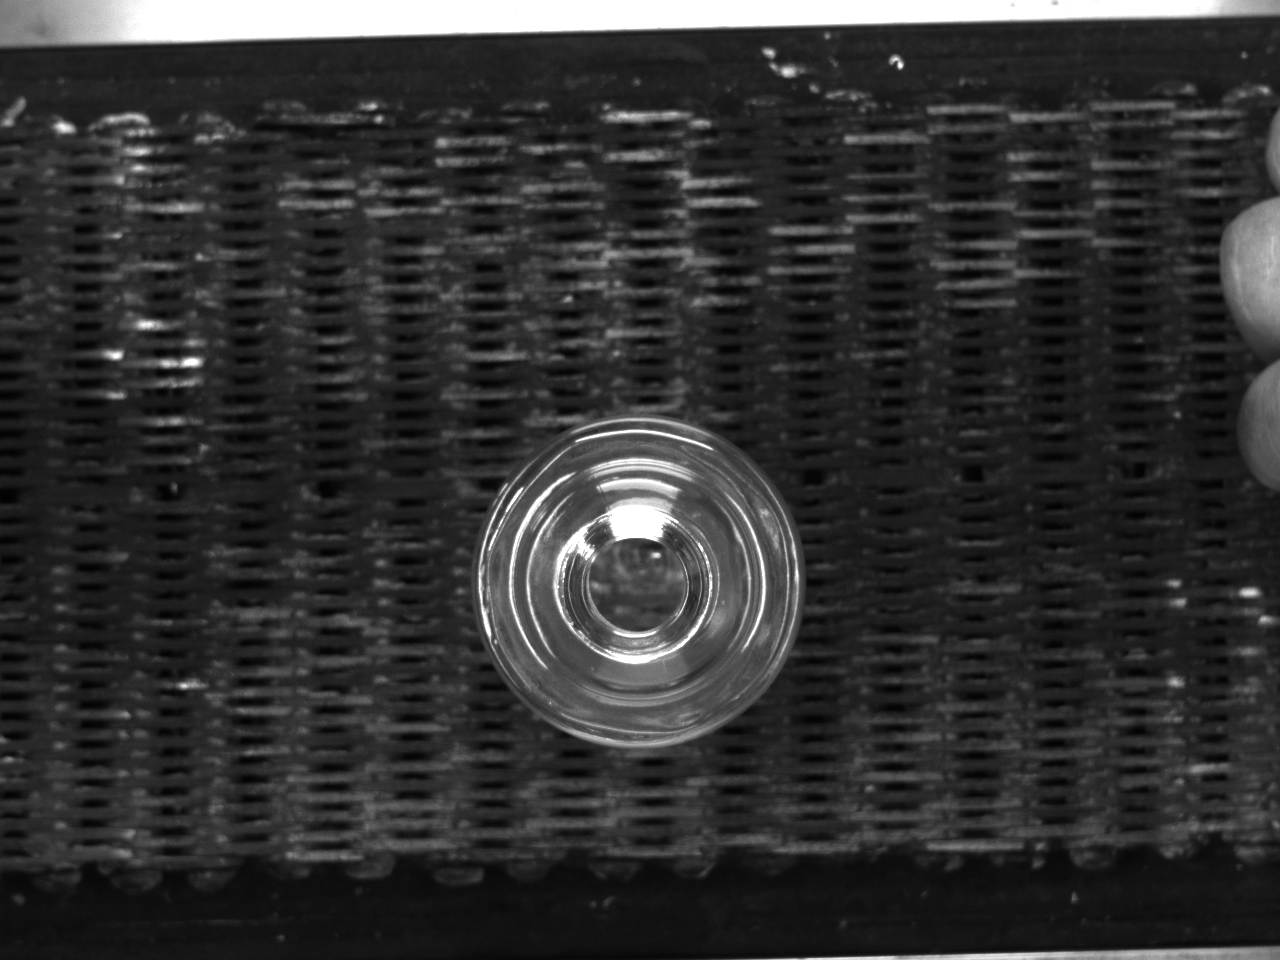bottleneck: (563, 508, 713, 664)
